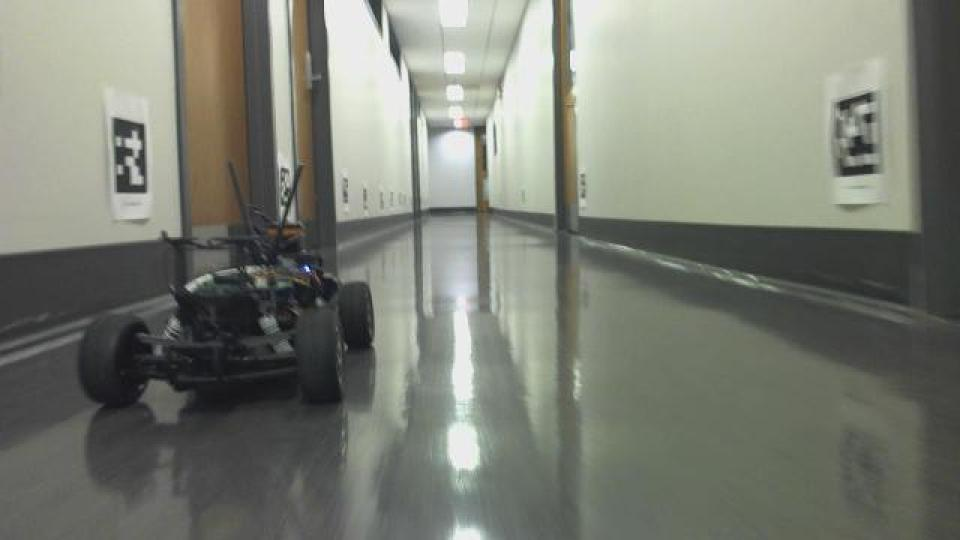car: (74, 159, 378, 413)
